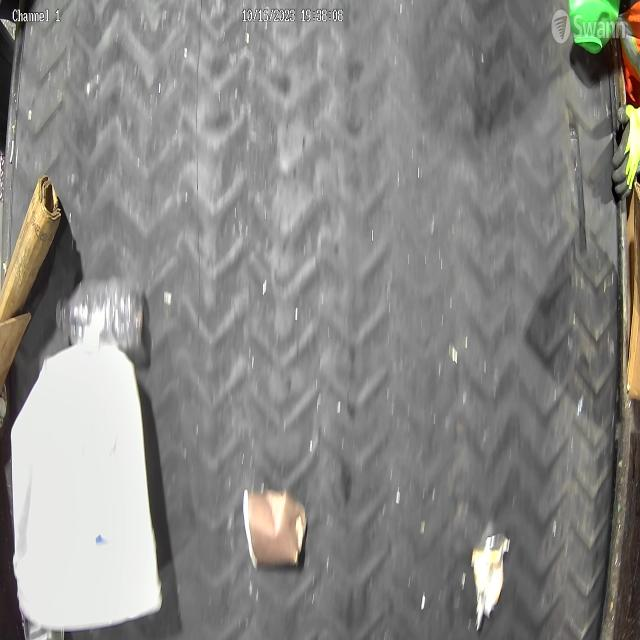can: (470, 529, 511, 633)
milk_jug: (9, 337, 163, 634)
non_white_jug: (568, 0, 620, 57)
plastic_bottle: (55, 278, 145, 353)
